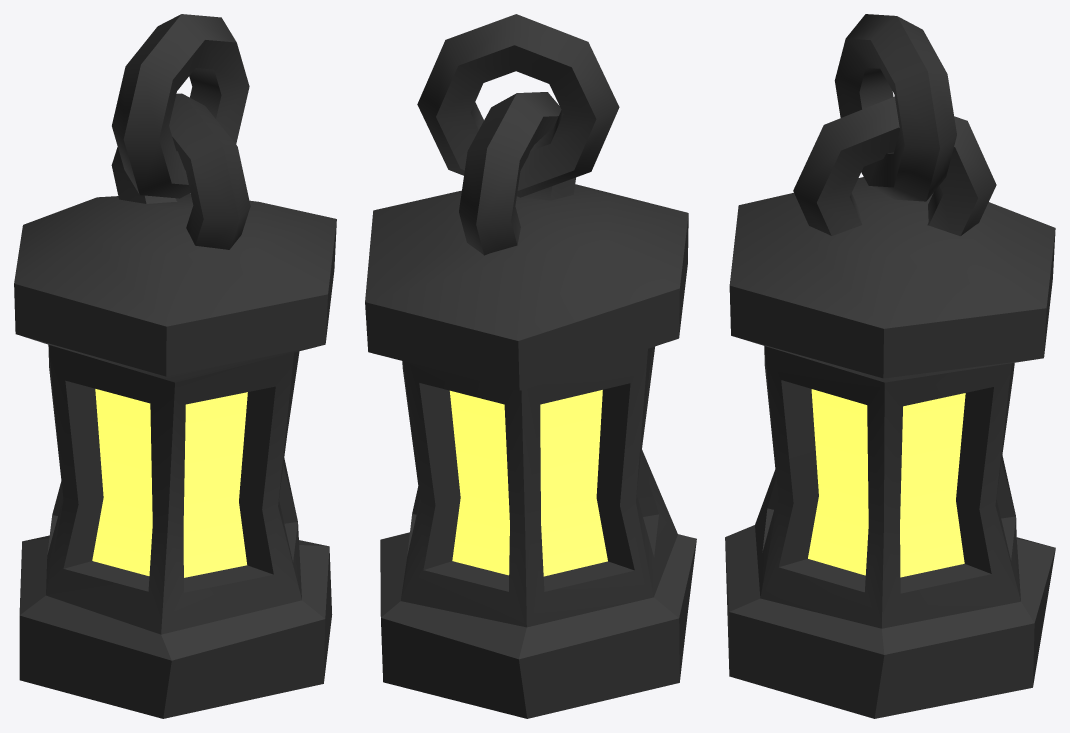
File: SM_PROP_rowboat_lantern.FBX
The picture shows the model from 3 angles, left to right: view 1: azimuth 30°, elevation 25°; view 2: azimuth 150°, elevation 25°; view 3: azimuth 270°, elevation 25°; orthographic projection.
Parts seen in each view (by area): view 1: SM_PROP_rowboat_lantern; view 2: SM_PROP_rowboat_lantern; view 3: SM_PROP_rowboat_lantern.
Boxes of the visible parts, x1,y1,x2,y2 form: SM_PROP_rowboat_lantern: (14, 14, 336, 718); SM_PROP_rowboat_lantern: (365, 14, 696, 718); SM_PROP_rowboat_lantern: (725, 14, 1055, 718).
Bounding box in the file's own units: 36.46 × 32.88 × 70.11.
